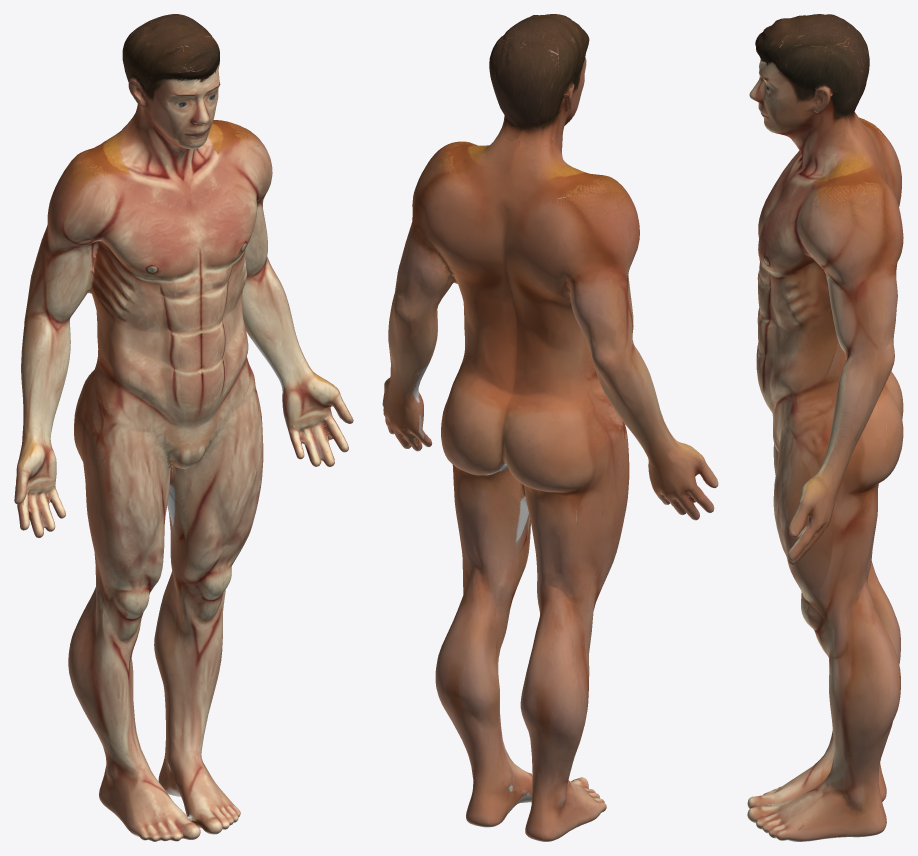
File: body-model.glb
3 renders of one model, left to right at view 1: azimuth 30°, elevation 25°; view 2: azimuth 150°, elevation 25°; view 3: azimuth 270°, elevation 25°, orthographic.
Parts seen in each view (by area): view 1: Mesh_0; view 2: Mesh_0; view 3: Mesh_0.
Part boxes in pixels (x1,y1,x2,y2): Mesh_0: (14, 14, 353, 841); Mesh_0: (382, 14, 718, 841); Mesh_0: (747, 14, 903, 841).
Size of the model in its own units: 0.8461 by 1.91 by 0.3373.
1 material, 1 textured.
